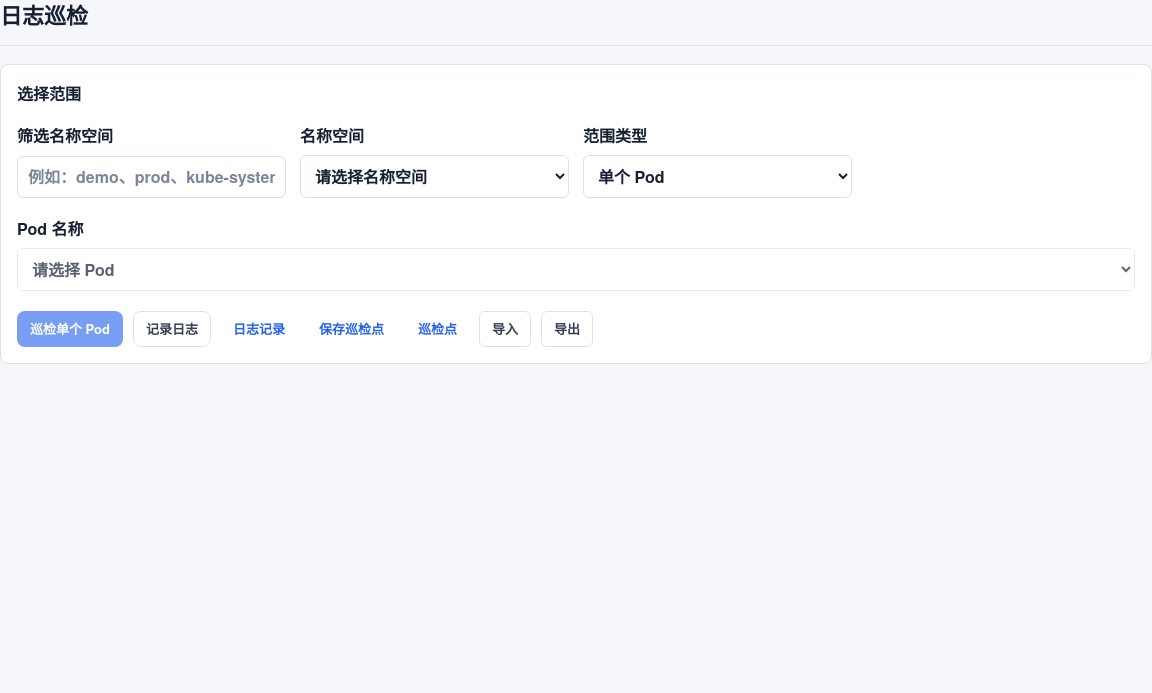
it: PodInspectionPage › runs saved label inspection point on the first click after resolving pod count
Step 1. Click the button "巡检点" → click(438, 329), box [406, 311, 469, 347]
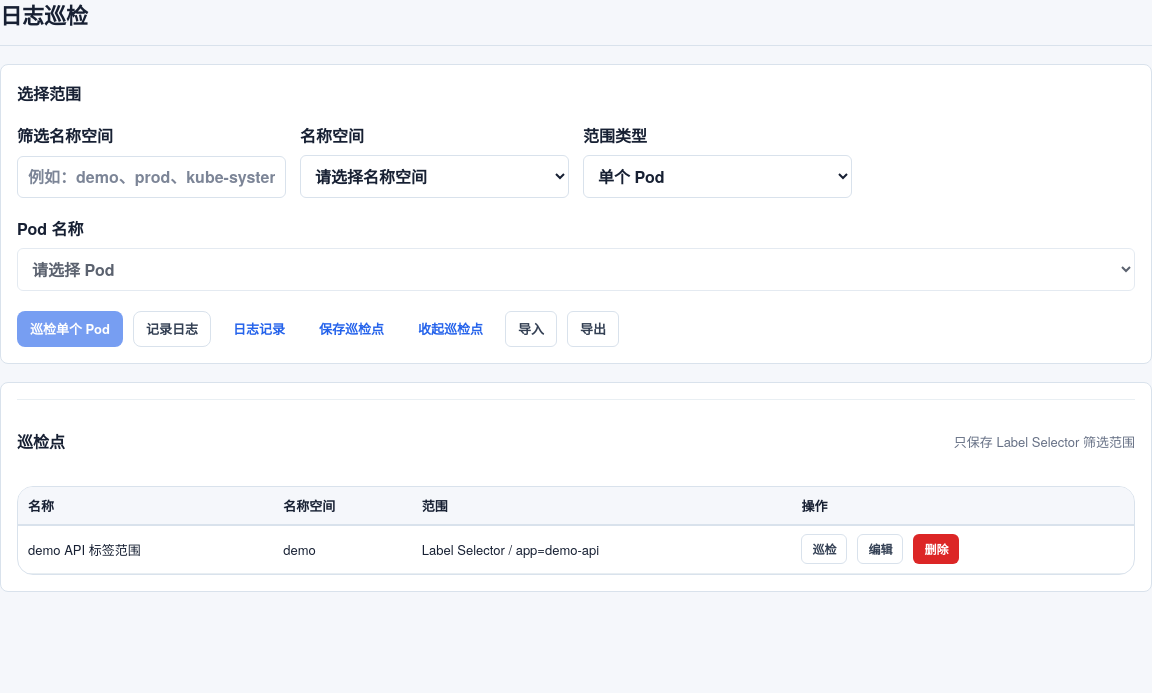
Result: the text "demo API 标签范围" is shown at [28, 540, 141, 559]
Step 2. Click the button "巡检" → click(824, 549), box [801, 534, 847, 564]
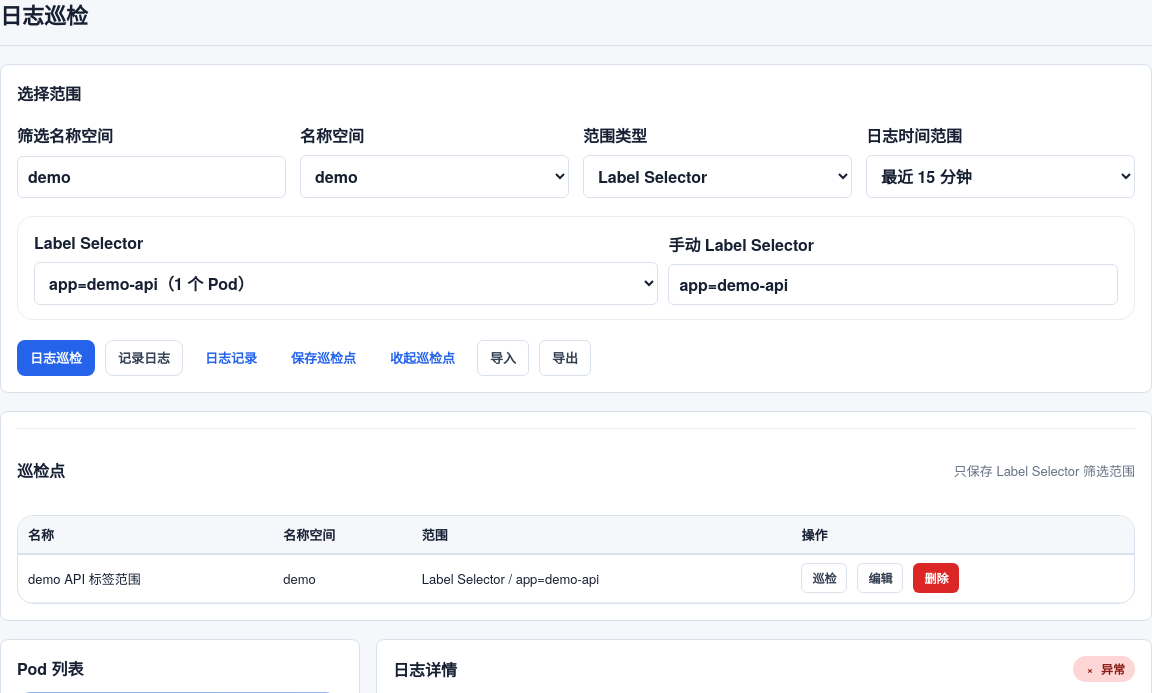
Result: the heading "Pod 列表" is shown at [17, 656, 83, 680]
